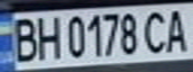0: (63, 11, 87, 58)
1: (84, 11, 106, 57)
7: (100, 10, 121, 56)
8: (118, 9, 142, 56)
A: (160, 6, 193, 54)
B: (6, 15, 42, 63)
C: (139, 7, 172, 55)
H: (33, 12, 63, 61)
